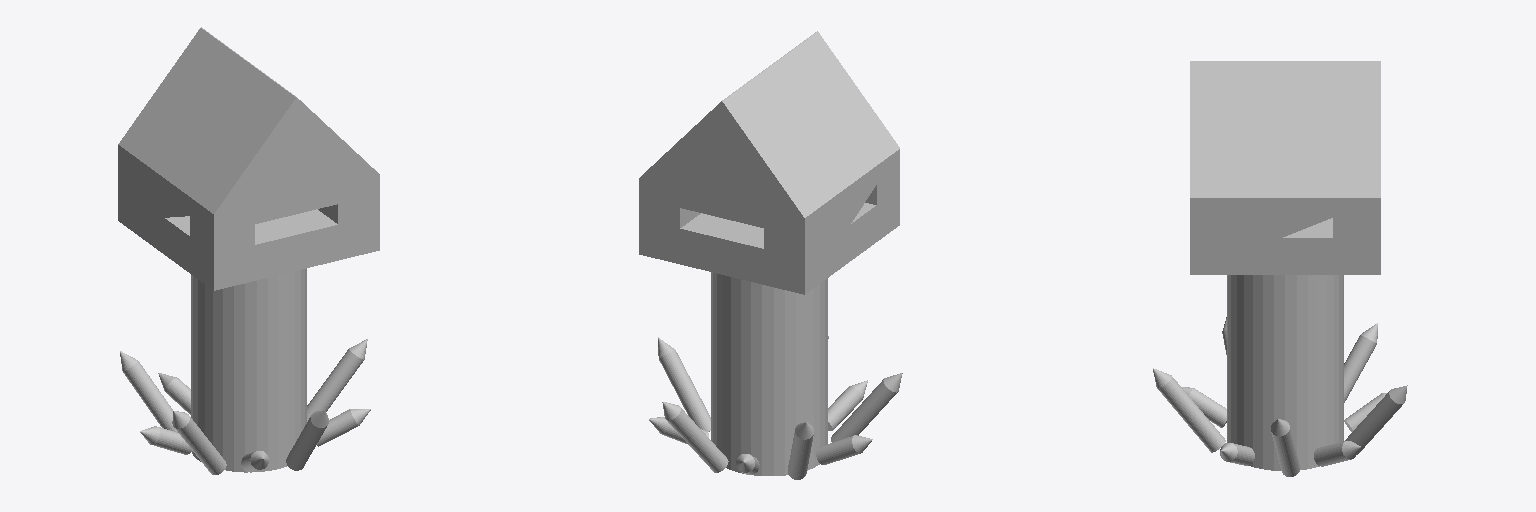
The model's file is Wooden_Tower.obj.
The picture shows the model from 3 angles: view 1: azimuth 30°, elevation 25°; view 2: azimuth 150°, elevation 25°; view 3: azimuth 270°, elevation 25°; orthographic projection.
Parts seen in each view (by area): view 1: Cube, Cylinder, Cone, Cone.001; view 2: Cube, Cylinder, Cone, Cone.001; view 3: Cube, Cylinder, Cone, Cone.001.
Part boxes in pixels (x1,y1,x2,y2): Cube: (118,27,379,290); Cylinder: (191,268,306,472); Cone: (120,339,367,474); Cone.001: (140,373,370,472); Cube: (639,31,899,294); Cylinder: (711,272,827,475); Cone: (658,336,902,479); Cone.001: (649,380,872,474); Cube: (1190,61,1380,274); Cylinder: (1227,275,1343,470); Cone: (1153,317,1407,476); Cone.001: (1182,387,1386,466).
Size of the model in its own units: 4.38 by 7.27 by 4.36.